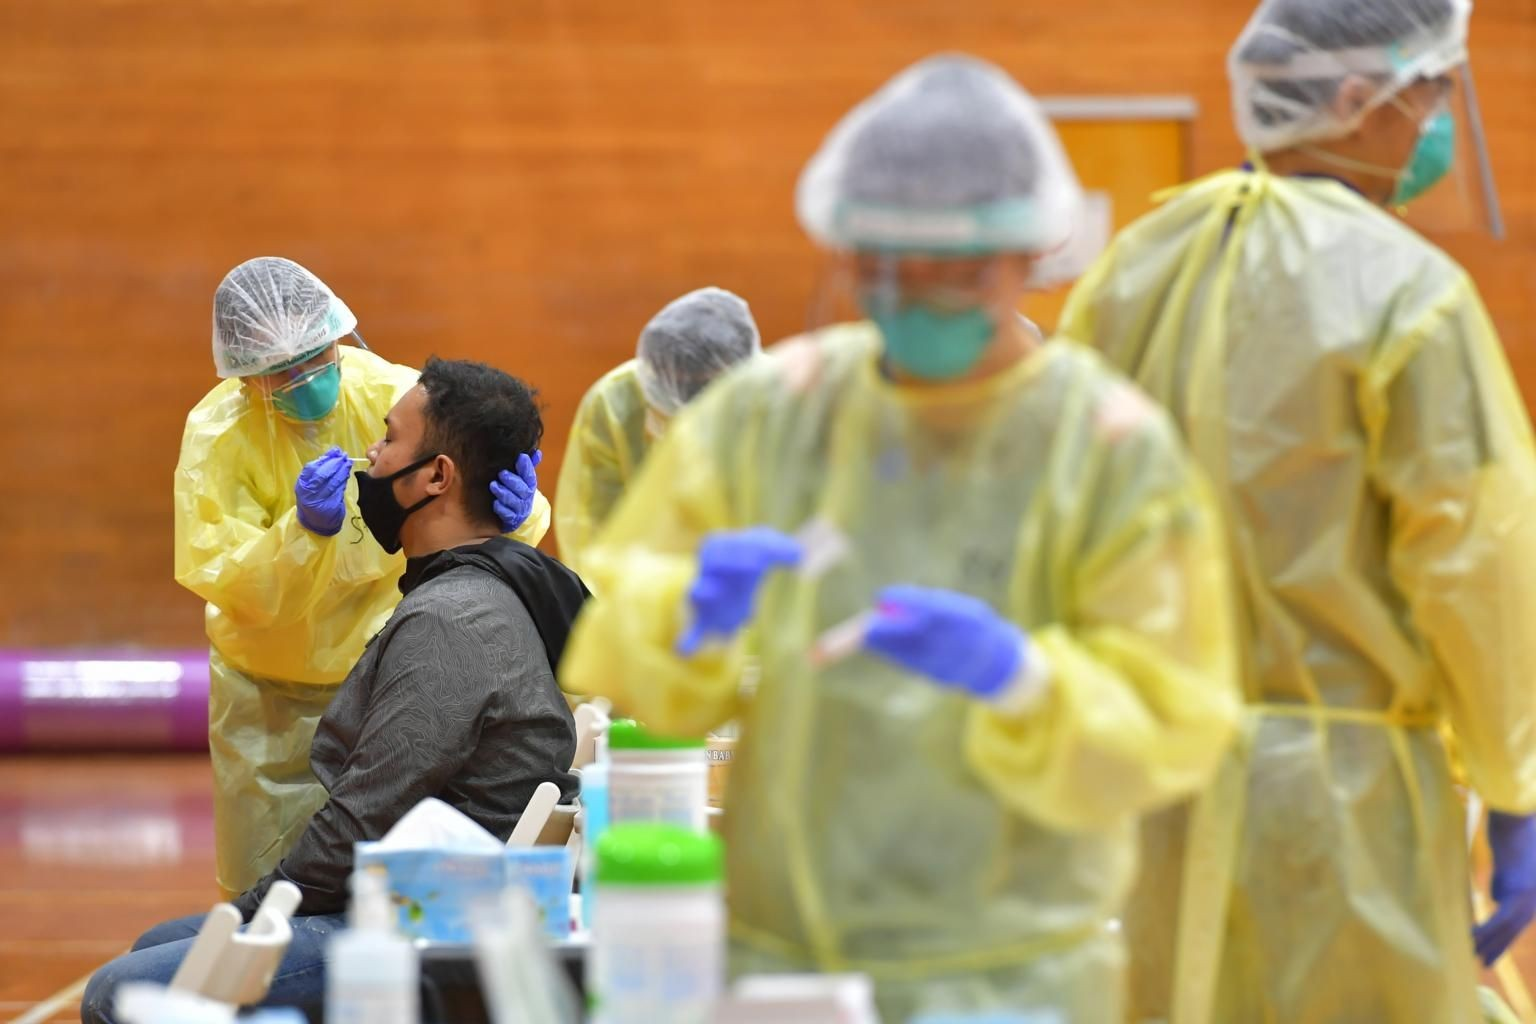Coverall: (559, 311, 1239, 1024), (1051, 163, 1536, 1024), (161, 348, 516, 920)
Face_Shield: (1294, 25, 1511, 263), (243, 298, 374, 460)
Gloves: (678, 516, 816, 663), (876, 578, 1018, 718), (1466, 808, 1536, 971), (289, 445, 358, 543), (483, 446, 549, 531)
mask_weared_incorrect: (354, 406, 436, 565)
with_mask: (853, 241, 1008, 381), (1361, 75, 1464, 213), (264, 340, 349, 431)
